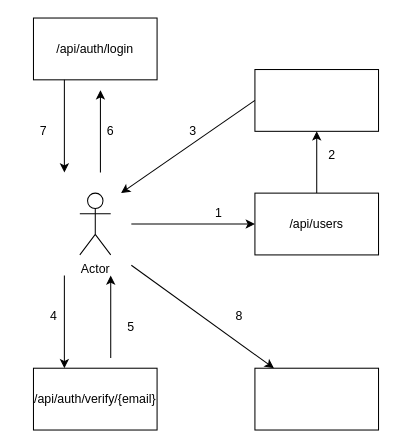
Image size: 397x448. Some labels were removed from this diagram. Here are the shapes that lost their labels. From the top down, the box of each, then its label:
(254, 68, 379, 131): Registration Email Sent
(254, 367, 379, 430): ALL OTHER SYSTEMS
